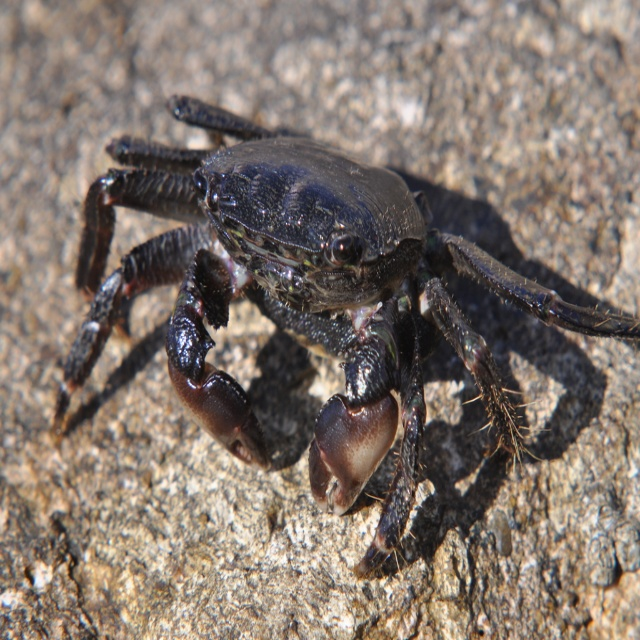Crab: (52, 92, 639, 581)
